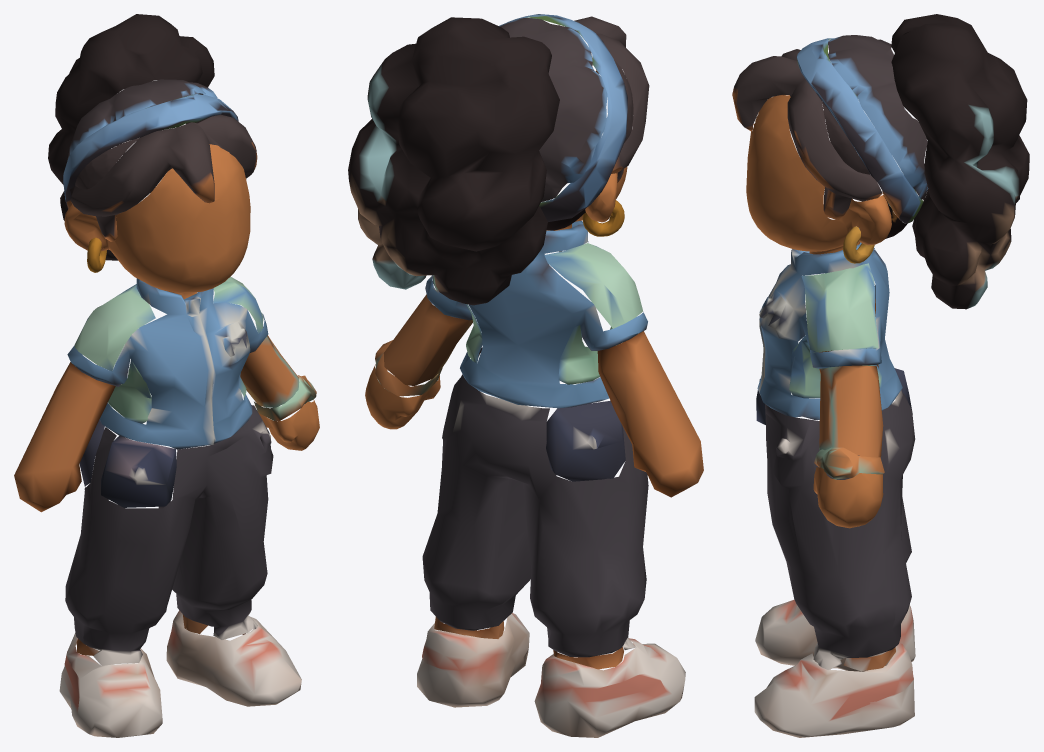
3 views of the same model, side by side, from view 1: azimuth 30°, elevation 25°; view 2: azimuth 150°, elevation 25°; view 3: azimuth 270°, elevation 25° (orthographic). The views are drawn at different scales.
Visible parts, largest first — view 1: bottom, top, sleeve_r, head, hair, acc_head_2, shoe_l, shoe_r, sleeve_l, acc_head_1, acc_head_0, hand_l (+2 smaller); view 2: hair, bottom, sleeve_r, top, shoe_r, acc_head_0, shoe_l, sleeve_l, acc_head_1, acc_head_2, hand_l, head (+1 smaller); view 3: hair, bottom, sleeve_l, top, head, shoe_l, acc_head_2, acc_head_0, acc_head_1, shoe_r, hand_l, acc_head_5 (+2 smaller).
Boxes of the visible parts, x1=… form: bottom: x1=65, y1=405, x2=273, y2=665; top: x1=67, y1=278, x2=268, y2=449; sleeve_r: x1=14, y1=284, x2=176, y2=512; head: x1=64, y1=144, x2=250, y2=299; hair: x1=48, y1=14, x2=214, y2=260; acc_head_2: x1=70, y1=114, x2=257, y2=241; shoe_l: x1=166, y1=610, x2=301, y2=706; shoe_r: x1=59, y1=633, x2=162, y2=737; sleeve_l: x1=213, y1=276, x2=316, y2=421; acc_head_1: x1=63, y1=94, x2=238, y2=208; acc_head_0: x1=67, y1=79, x2=217, y2=160; hand_l: x1=255, y1=399, x2=319, y2=450; hair: x1=348, y1=17, x2=559, y2=305; bottom: x1=422, y1=347, x2=648, y2=657; sleeve_r: x1=544, y1=243, x2=703, y2=497; top: x1=425, y1=221, x2=647, y2=408; shoe_r: x1=534, y1=638, x2=685, y2=737; acc_head_0: x1=499, y1=18, x2=607, y2=201; shoe_l: x1=417, y1=613, x2=529, y2=707; sleeve_l: x1=375, y1=275, x2=475, y2=396; acc_head_1: x1=499, y1=14, x2=627, y2=221; acc_head_2: x1=559, y1=16, x2=649, y2=182; hand_l: x1=365, y1=364, x2=440, y2=429; head: x1=546, y1=58, x2=627, y2=230; hair: x1=891, y1=14, x2=1029, y2=309; bottom: x1=765, y1=390, x2=915, y2=669; sleeve_l: x1=801, y1=263, x2=884, y2=479; top: x1=757, y1=228, x2=902, y2=419; head: x1=746, y1=95, x2=891, y2=254; shoe_l: x1=754, y1=643, x2=914, y2=737; acc_head_2: x1=732, y1=49, x2=882, y2=219; acc_head_0: x1=828, y1=35, x2=927, y2=199; acc_head_1: x1=796, y1=38, x2=923, y2=223; shoe_r: x1=755, y1=599, x2=915, y2=671; hand_l: x1=813, y1=467, x2=883, y2=528; acc_head_5: x1=822, y1=102, x2=869, y2=174.
Size of the model in its own units: 0.498 by 1.03 by 0.412.
